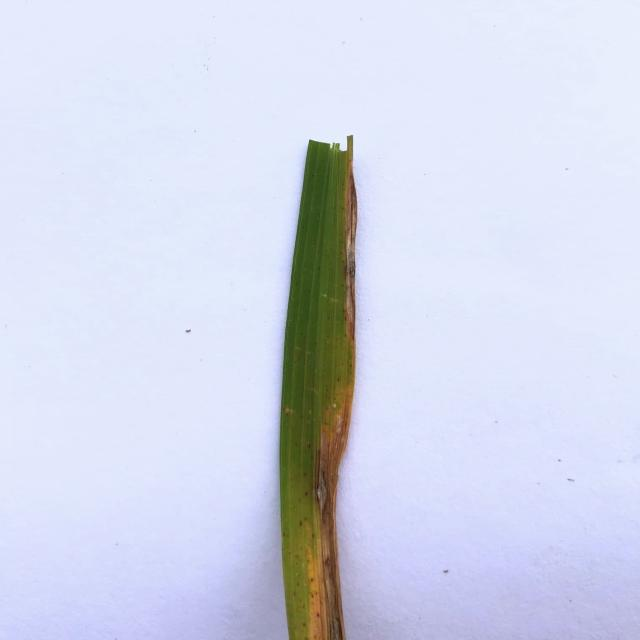tungro: (303, 379, 361, 640), (339, 135, 368, 376)
